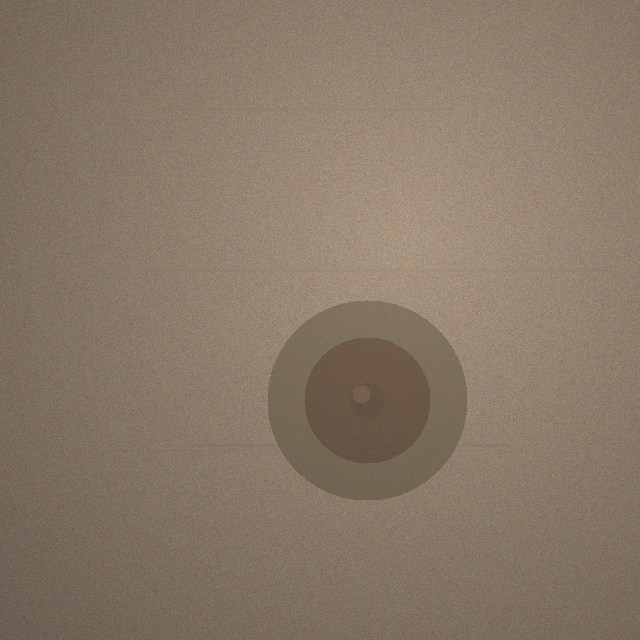good: (267, 300, 467, 500)
